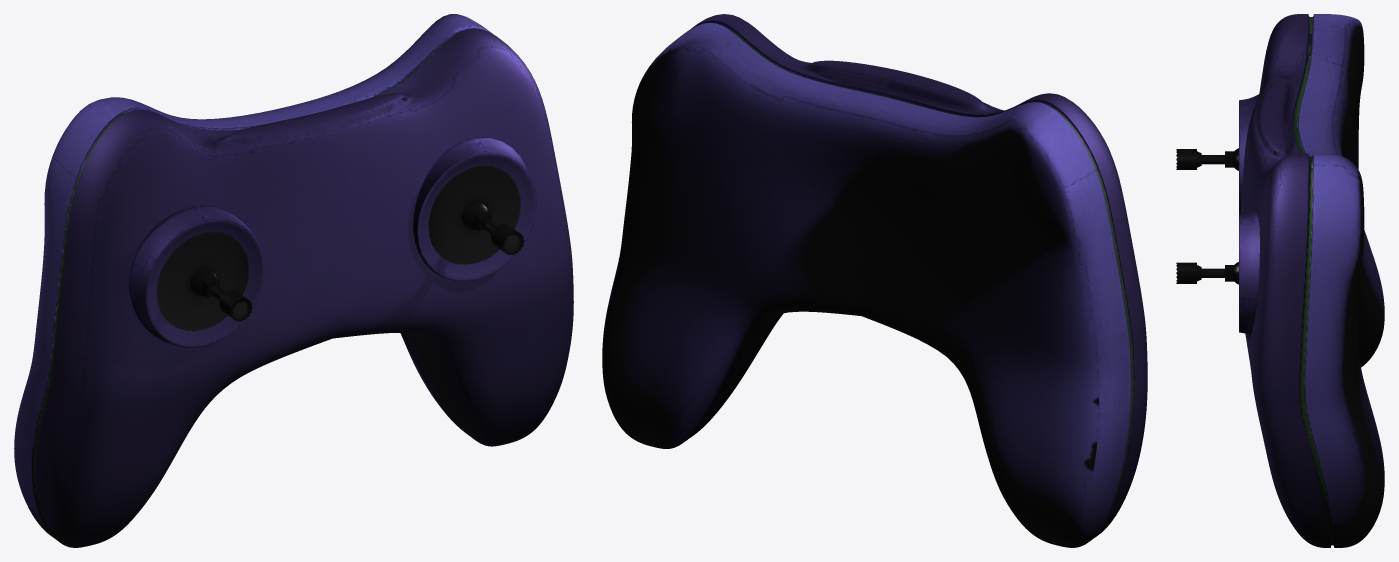
The model's file is GeneralDroneController.gltf.
3 views of the same model, side by side, from view 1: azimuth 30°, elevation 25°; view 2: azimuth 150°, elevation 25°; view 3: azimuth 270°, elevation 25° (orthographic). The views are drawn at different scales.
Visible parts, largest first — view 1: ControllerBase, PaddingController-L, PaddingController-R, JoystickController-R, JoystickController-L; view 2: ControllerBase; view 3: ControllerBase, PaddingController-R, JoystickController-R, JoystickController-L, PaddingController-L.
Part boxes in pixels (x1,y1,x2,y2): ControllerBase: [14, 14, 573, 547]; PaddingController-L: [129, 206, 265, 347]; PaddingController-R: [413, 137, 536, 281]; JoystickController-R: [462, 202, 524, 255]; JoystickController-L: [190, 268, 252, 321]; ControllerBase: [602, 14, 1147, 547]; ControllerBase: [1241, 14, 1384, 547]; PaddingController-R: [1239, 210, 1259, 334]; JoystickController-R: [1176, 262, 1238, 284]; JoystickController-L: [1176, 148, 1238, 170]; PaddingController-L: [1239, 94, 1259, 213].
Size of the model in its own units: 6.21 by 4.92 by 2.51.
Materials: 5 (5 with a texture image).
